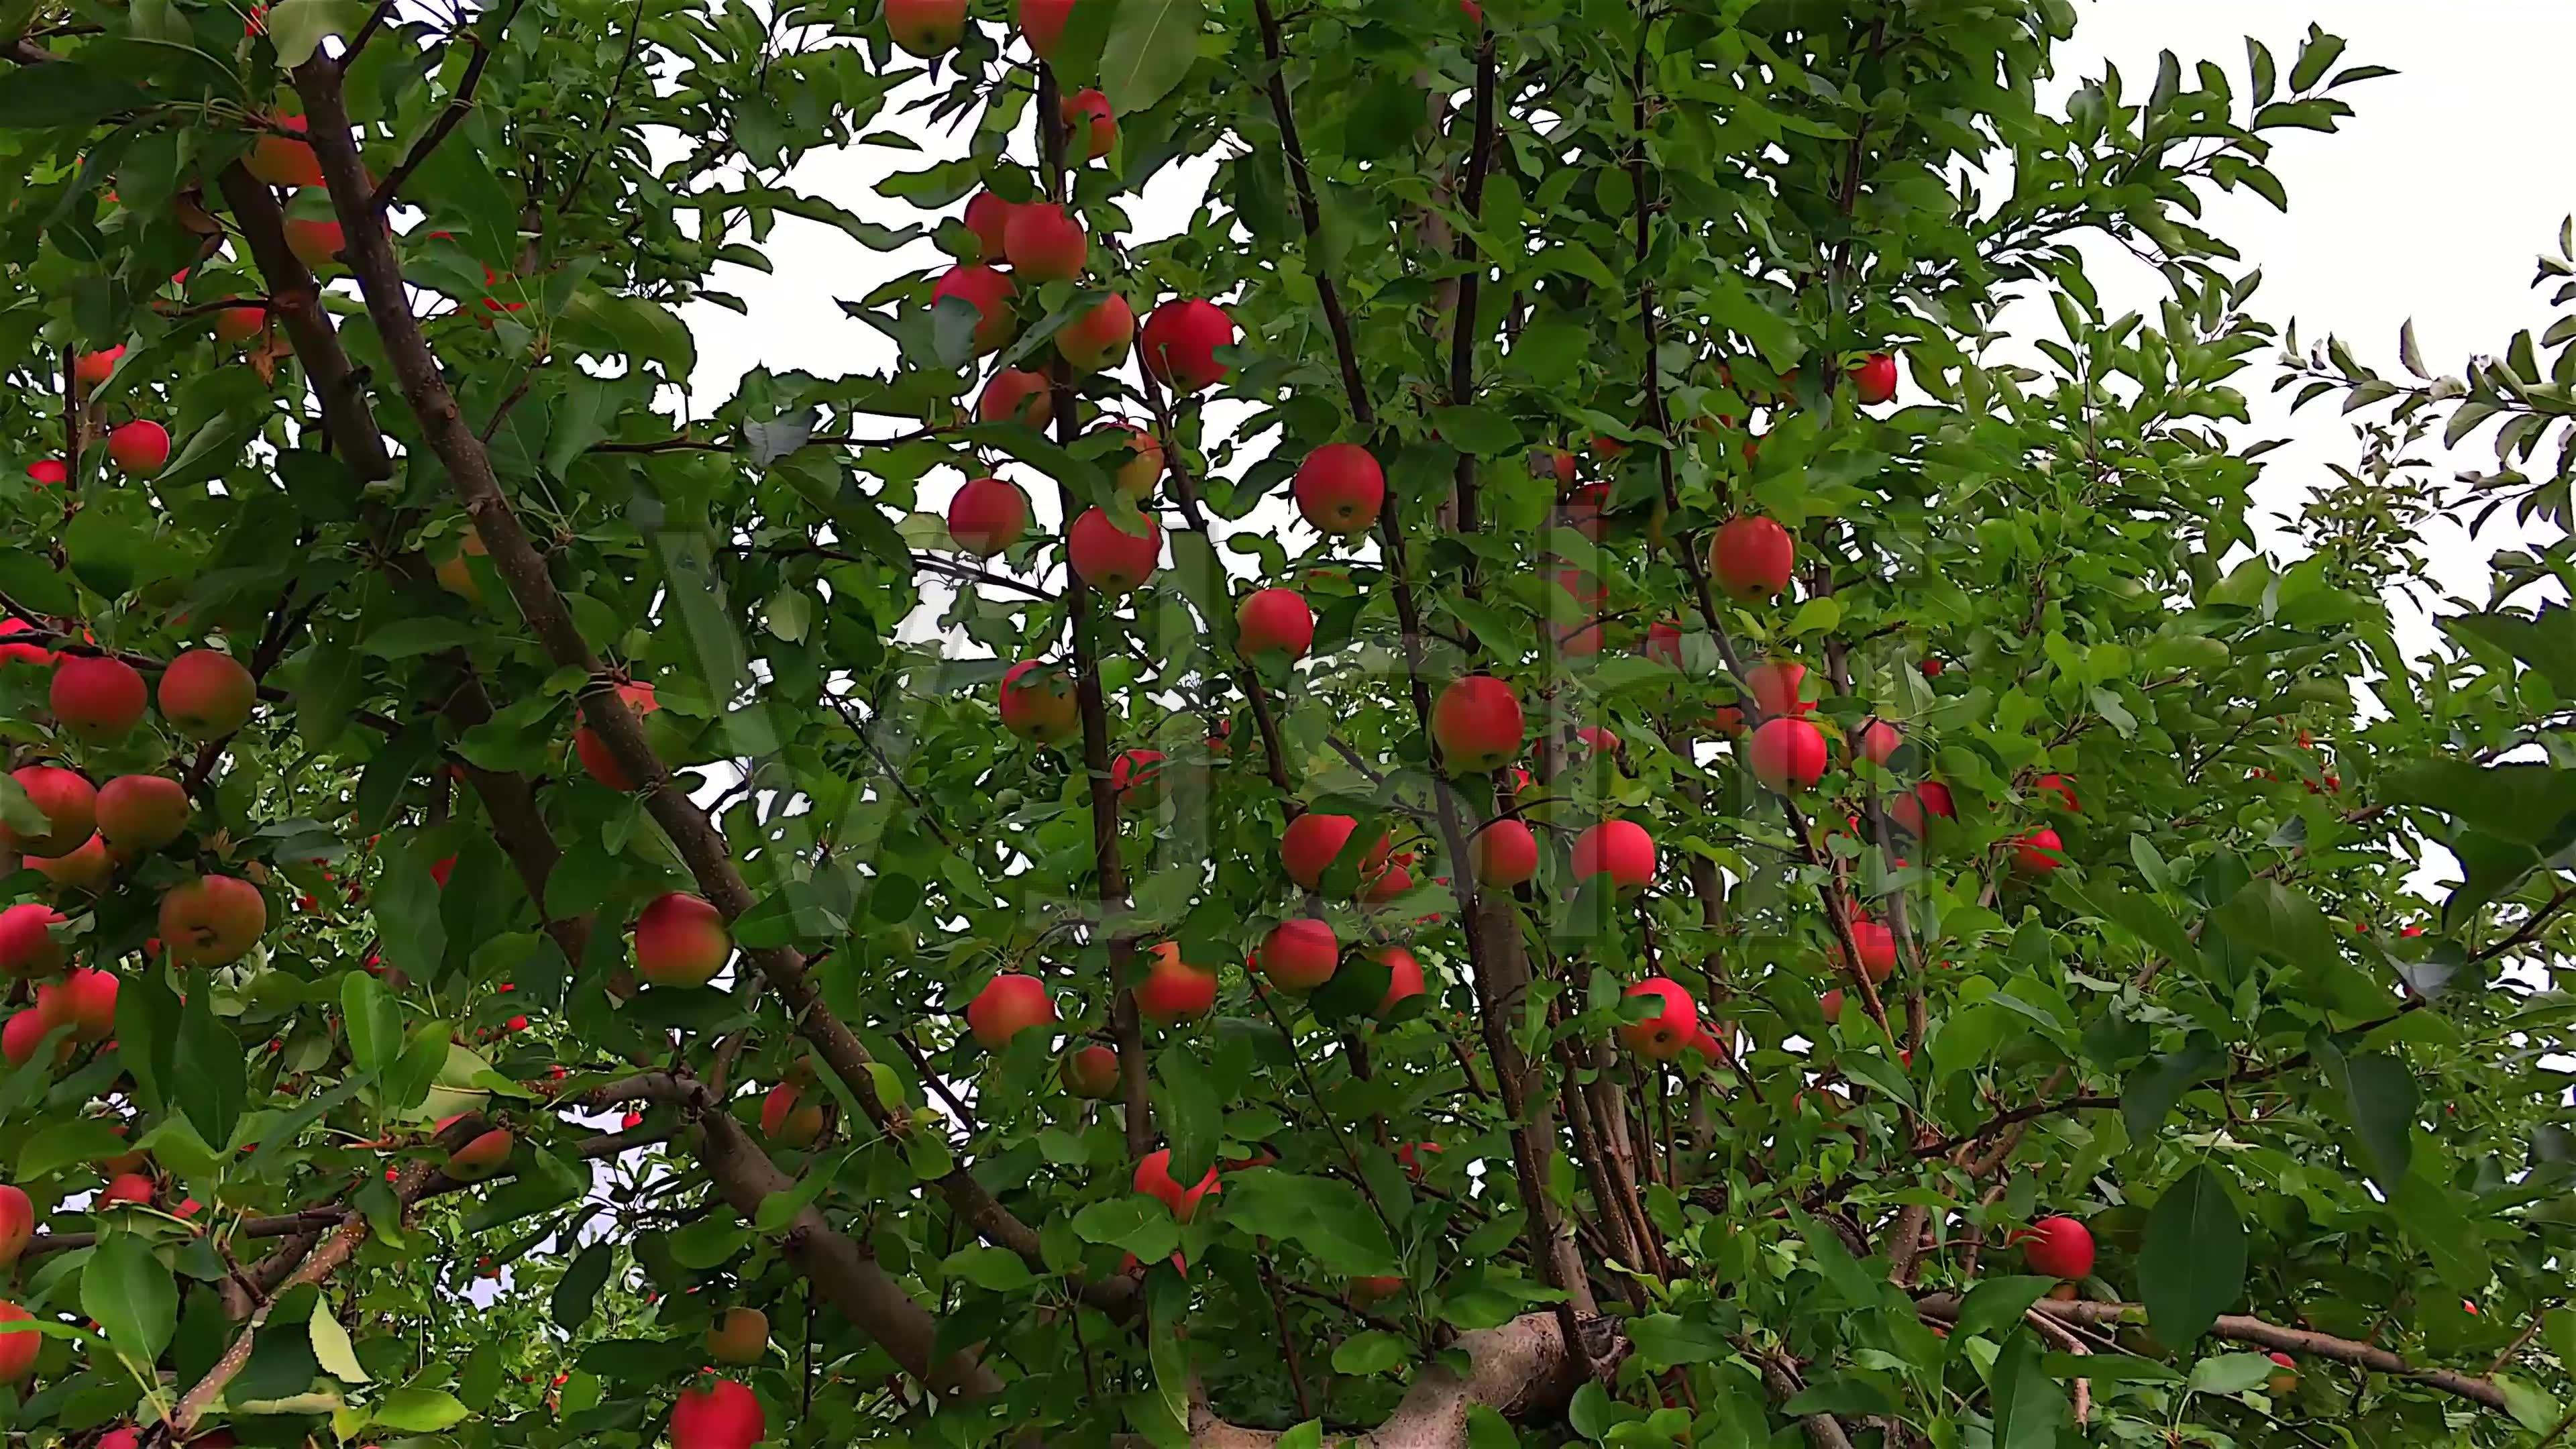apple: (157, 878, 267, 975), (571, 679, 665, 793), (1143, 301, 1244, 402), (632, 890, 732, 991), (1293, 446, 1387, 545), (1433, 678, 1527, 777), (156, 651, 255, 745), (1069, 506, 1166, 596), (53, 655, 149, 743), (4, 768, 97, 856), (927, 262, 1016, 350), (968, 977, 1060, 1054), (1003, 205, 1088, 288), (1617, 977, 1698, 1063), (1131, 941, 1219, 1021), (92, 775, 186, 849), (948, 481, 1033, 563), (1711, 518, 1798, 598), (672, 1376, 766, 1449), (1001, 665, 1081, 750), (1573, 817, 1660, 893), (1284, 816, 1361, 893), (1238, 589, 1320, 662), (37, 970, 120, 1040), (1058, 294, 1132, 372), (1260, 918, 1338, 989), (1348, 947, 1426, 1017), (1752, 718, 1826, 791), (0, 904, 67, 982), (1468, 819, 1539, 892), (977, 368, 1054, 433), (2022, 1217, 2097, 1284), (1748, 660, 1810, 718), (1067, 1046, 1123, 1104), (1849, 350, 1904, 410), (108, 421, 170, 471)
